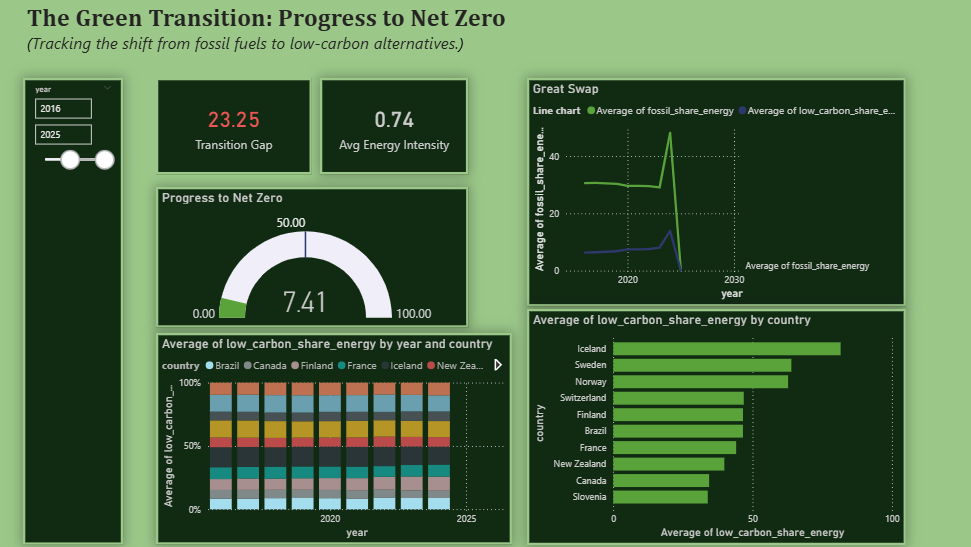

The dashboard page shown, as its layout file describes it:
{"tool":"powerbi","page":{"name":"Green Transition","canvas":[1280,720],"ordinal":1},"visuals":[{"type":"gauge","title":"Progress to Net Zero","fields":{"Y":["Avg(data.low_carbon_share_energy)"]},"box":[204.3,245.7,408.6,184.3],"z":0},{"type":"lineChart","title":"Great Swap","fields":{"Y":["Avg(data.fossil_share_energy)","Avg(data.low_carbon_share_energy)"],"Category":["data.year"]},"box":[690,102.9,495.7,298.6],"z":1000},{"type":"hundredPercentStackedColumnChart","fields":{"Series":["data.country"],"Category":["data.year"],"Y":["Avg(data.low_carbon_share_energy)"]},"box":[204.3,437.1,465.7,277.1],"z":2000},{"type":"card","fields":{"Values":["Avg(data.energy_per_gdp)"]},"box":[418.6,102.9,194.3,125.7],"z":3000},{"type":"clusteredBarChart","fields":{"Y":["Avg(data.low_carbon_share_energy)"],"Category":["data.country"]},"box":[690,405.7,495.7,308.6],"z":4000},{"type":"slicer","fields":{"Values":["data.year"]},"box":[30,102.9,131,611.4],"z":5000},{"type":"card","fields":{"Values":["data.Transition Gap"]},"box":[204.3,102.9,204.3,125.7],"z":6000},{"type":"textbox","box":[30,0,692.9,88.6],"z":7000}]}

Visuals, with their boxes in screenshot pixels (x1, y1, x2, y2), scaled from the page's 1280x720 canvas onto the 971x547 screenshot:
"Progress to Net Zero" gauge: detection(155, 187, 465, 327)
"Great Swap" lineChart: detection(523, 78, 899, 305)
hundredPercentStackedColumnChart - data.country x data.year: detection(155, 332, 508, 543)
card - Avg(data.energy_per_gdp): detection(318, 78, 465, 174)
clusteredBarChart - Avg(data.low_carbon_share_energy) x data.country: detection(523, 308, 899, 543)
slicer - data.year: detection(23, 78, 122, 543)
card - data.Transition Gap: detection(155, 78, 310, 174)
textbox: detection(23, 0, 548, 67)
